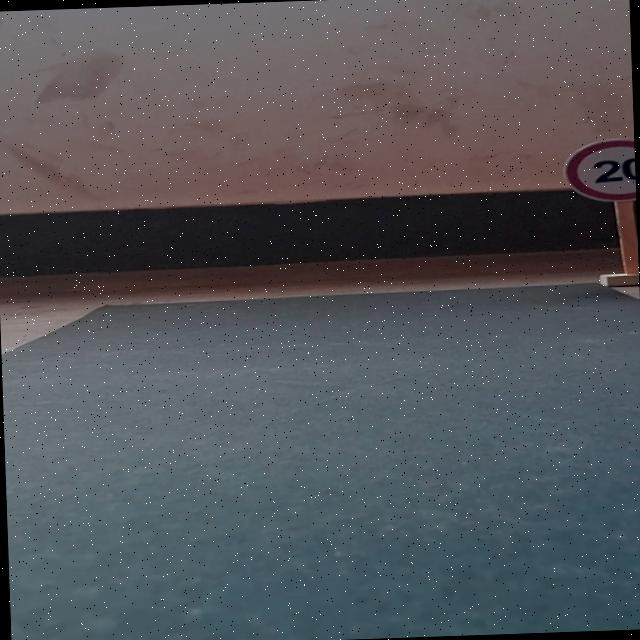Speed20: (545, 137, 636, 209)
